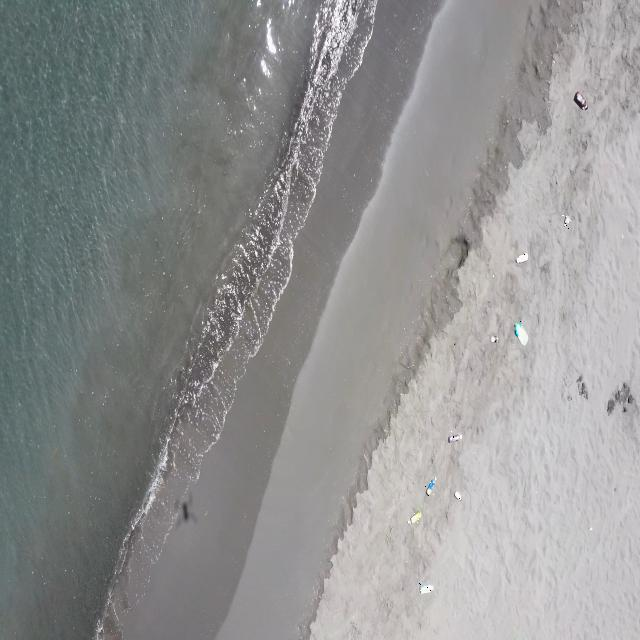Garbage: (513, 322, 527, 344), (574, 92, 586, 110), (424, 476, 435, 495), (417, 582, 432, 592), (447, 432, 462, 442), (408, 511, 420, 523), (516, 252, 527, 263), (563, 215, 571, 227), (453, 491, 460, 500), (489, 335, 496, 342)
